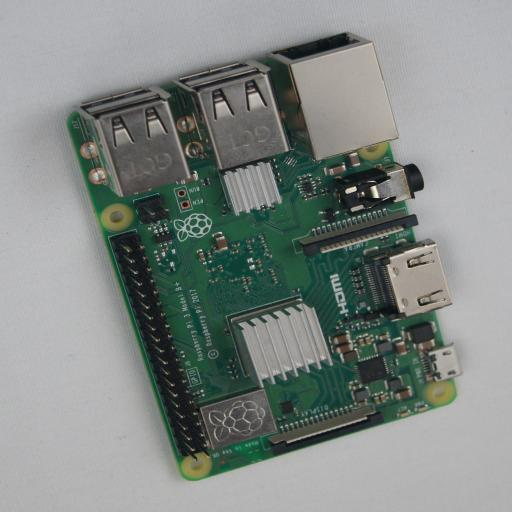Raspberry Pi 3 B-: (66, 32, 456, 480)
